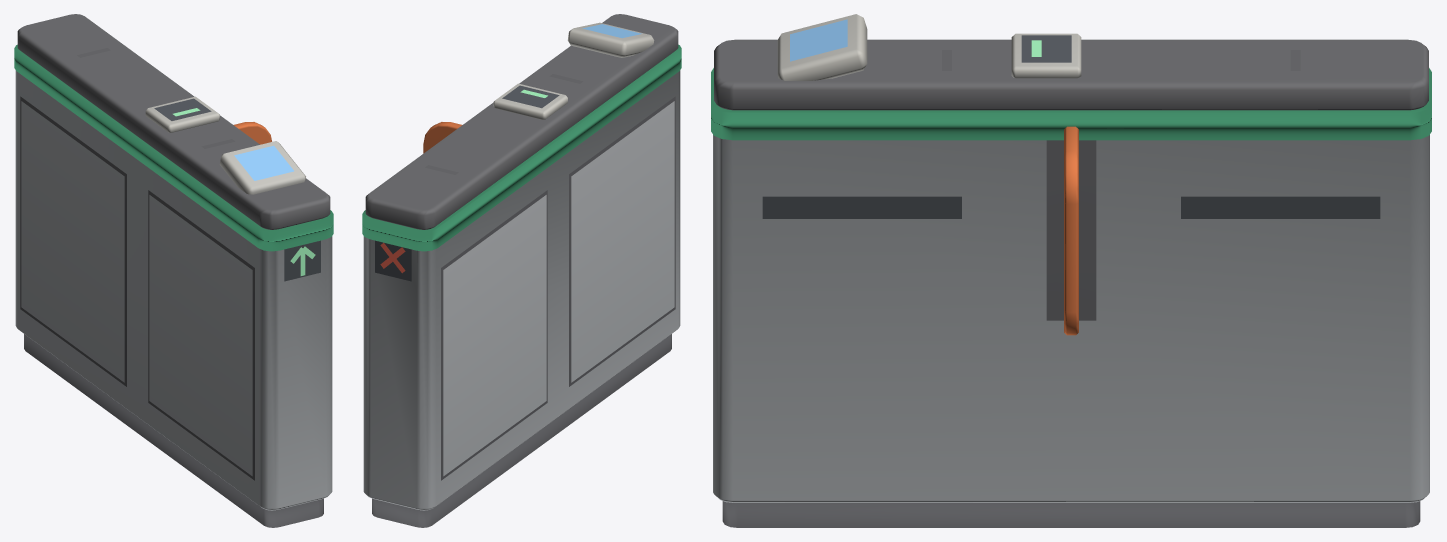
The model's file is ticket_gate.glb.
3 renders of one model, left to right at view 1: azimuth 30°, elevation 25°; view 2: azimuth 150°, elevation 25°; view 3: azimuth 270°, elevation 25°, orthographic. The views are drawn at different scales.
Visible parts, largest first — view 1: train_ticket_gate; view 2: train_ticket_gate; view 3: train_ticket_gate.
Boxes of the visible parts, x1=… form: train_ticket_gate: x1=14, y1=14, x2=333, y2=527; train_ticket_gate: x1=362, y1=14, x2=681, y2=527; train_ticket_gate: x1=711, y1=14, x2=1431, y2=527.
Bounding box in the file's own units: 0.435 × 1.06 × 1.45.
